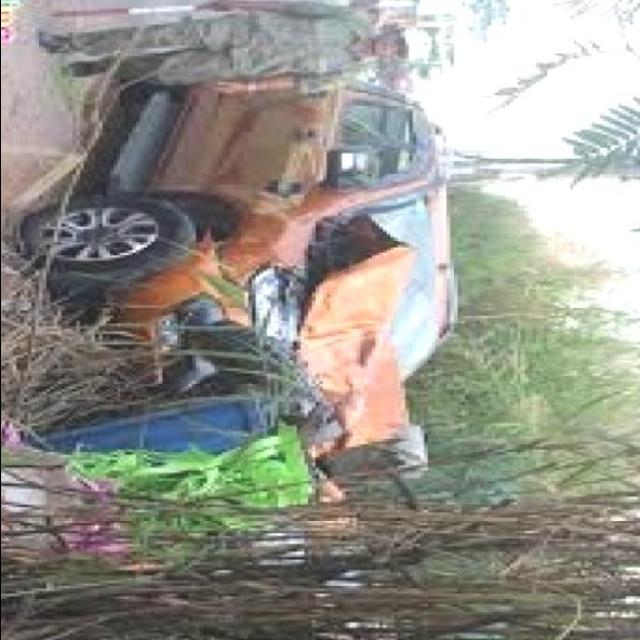accident: (56, 169, 468, 499)
